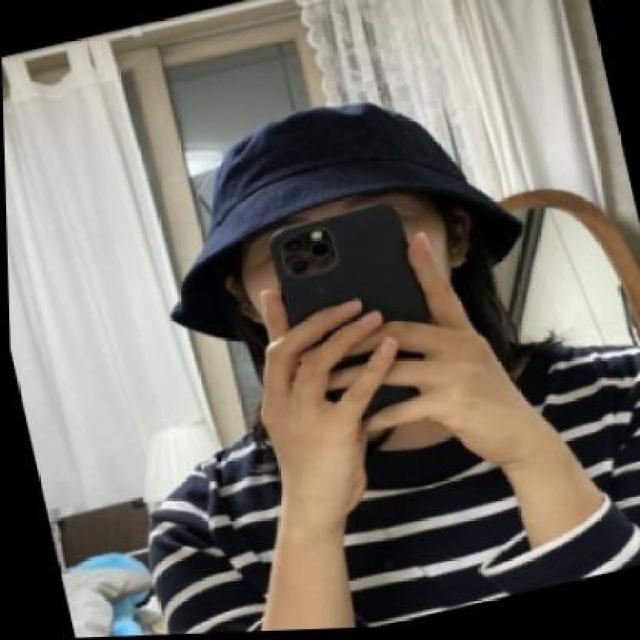hat: (167, 104, 520, 343)
